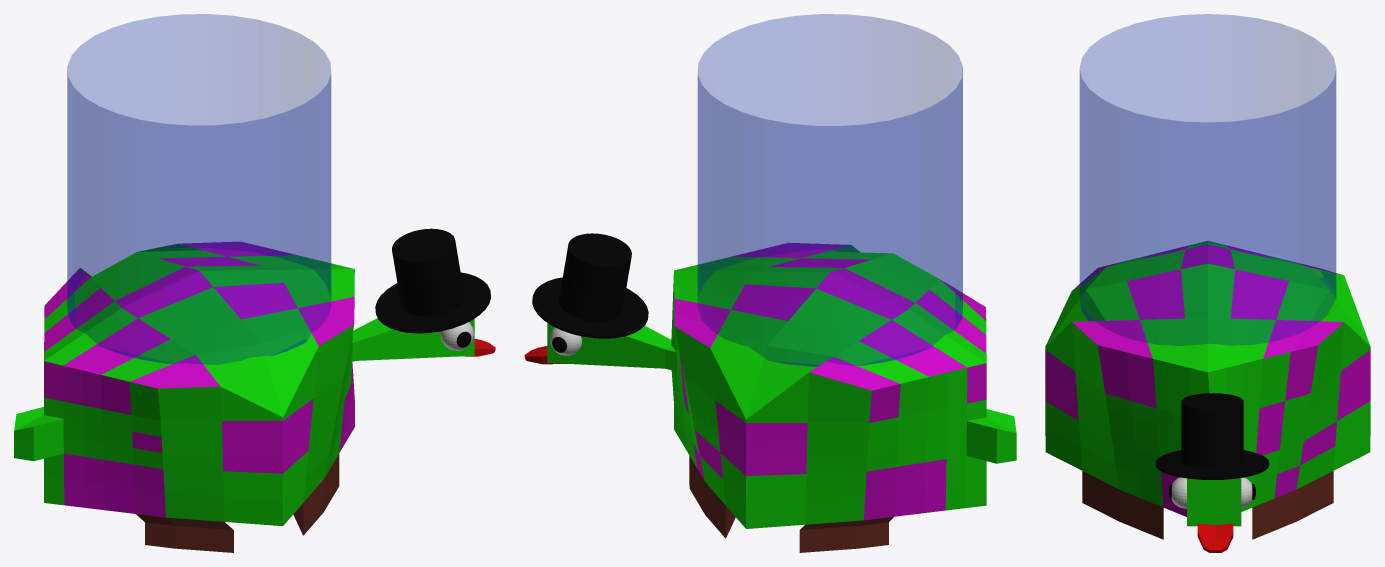
Rendered from tort.obj.
3 renders of one model, left to right at view 1: azimuth 30°, elevation 25°; view 2: azimuth 150°, elevation 25°; view 3: azimuth 270°, elevation 25°, orthographic. The views are drawn at different scales.
Visible parts, largest first — view 1: Sphere.003; view 2: Sphere.003; view 3: Sphere.003.
Part boxes in pixels (x1=…): Sphere.003: x1=14, y1=14, x2=495, y2=552; Sphere.003: x1=524, y1=14, x2=1016, y2=552; Sphere.003: x1=1045, y1=14, x2=1370, y2=552.
Bounding box in the file's own units: 3.1 × 2.63 × 1.86.
